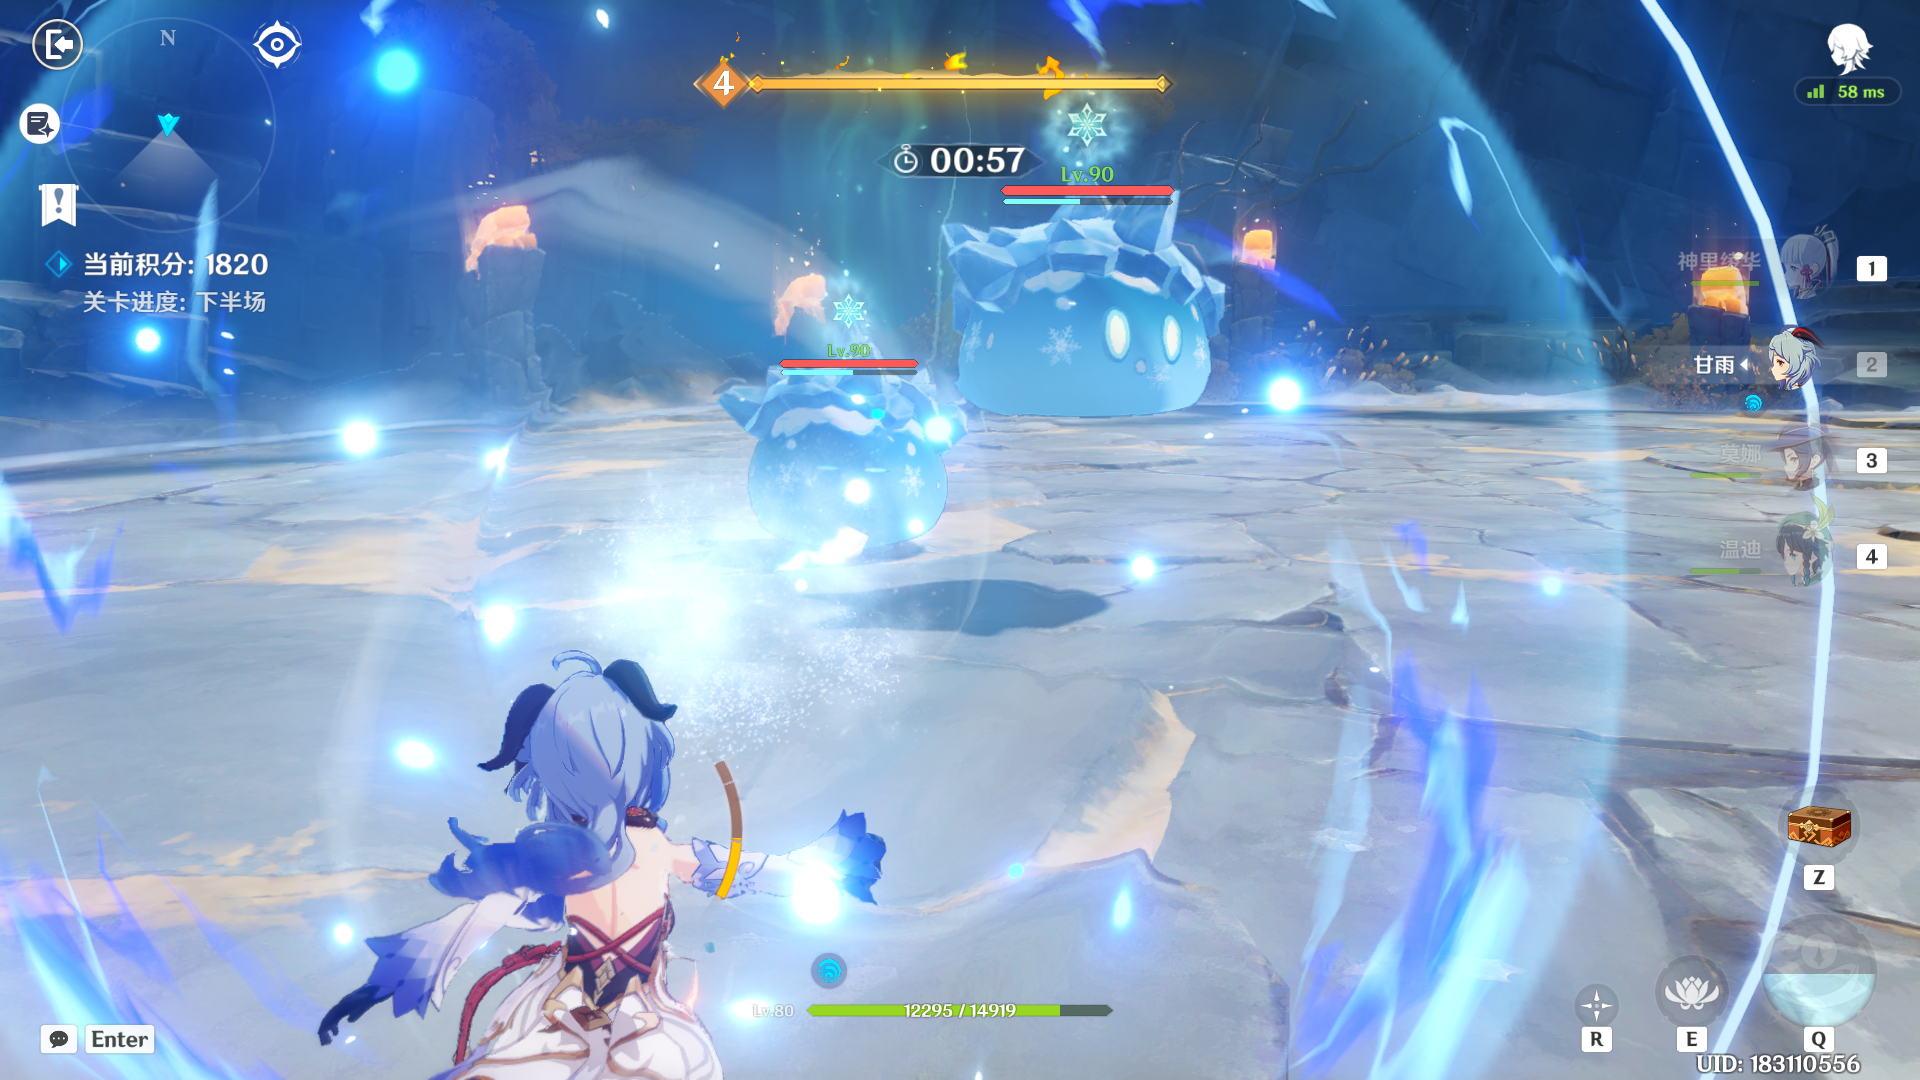character: (336, 620, 807, 1073)
slime: (913, 156, 1276, 448), (669, 344, 961, 607)
